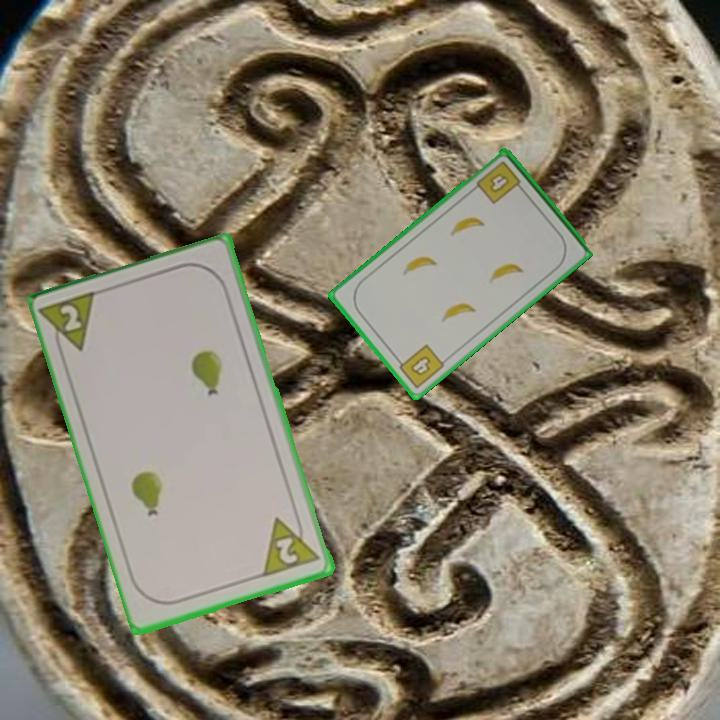2p: (260, 508, 324, 580), (39, 287, 102, 360)
4b: (392, 341, 447, 392), (473, 157, 527, 207)
